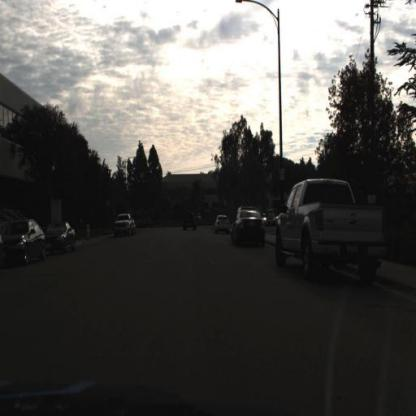car: (274, 177, 388, 282), (1, 219, 48, 262), (230, 208, 268, 251), (228, 206, 266, 242), (46, 220, 79, 257), (42, 218, 73, 250), (113, 211, 138, 240), (181, 206, 199, 233), (212, 213, 233, 236)
